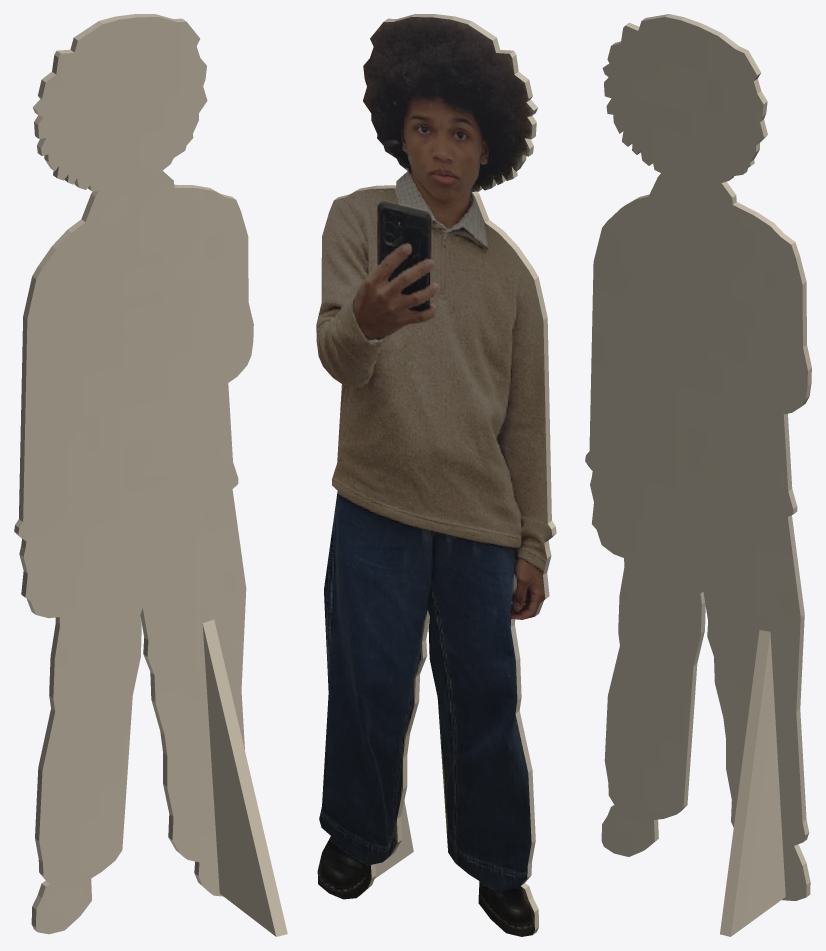
File: mebruh.glb
3 views of the same model, side by side, from view 1: azimuth 30°, elevation 25°; view 2: azimuth 150°, elevation 25°; view 3: azimuth 330°, elevation 25° (orthographic). The views are drawn at different scales.
Visible parts, largest first — view 1: Cube; view 2: Cube; view 3: Cube.
Boxes of the visible parts, box(x1,y1,x2,y2) form: Cube: box(14, 14, 287, 936); Cube: box(316, 14, 556, 936); Cube: box(585, 14, 811, 936).
Bounding box in the file's own units: 1.4 × 5.15 × 0.6397.
1 material, 1 textured.
